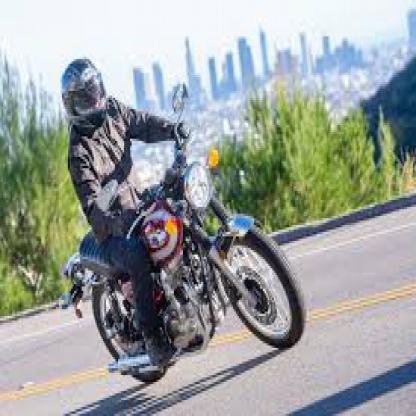Motorcycle: (51, 165, 315, 388)
